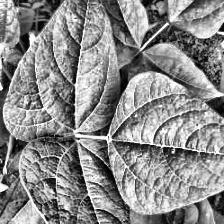Bean Rust: (106, 73, 224, 215), (0, 0, 119, 139), (19, 137, 131, 224)
